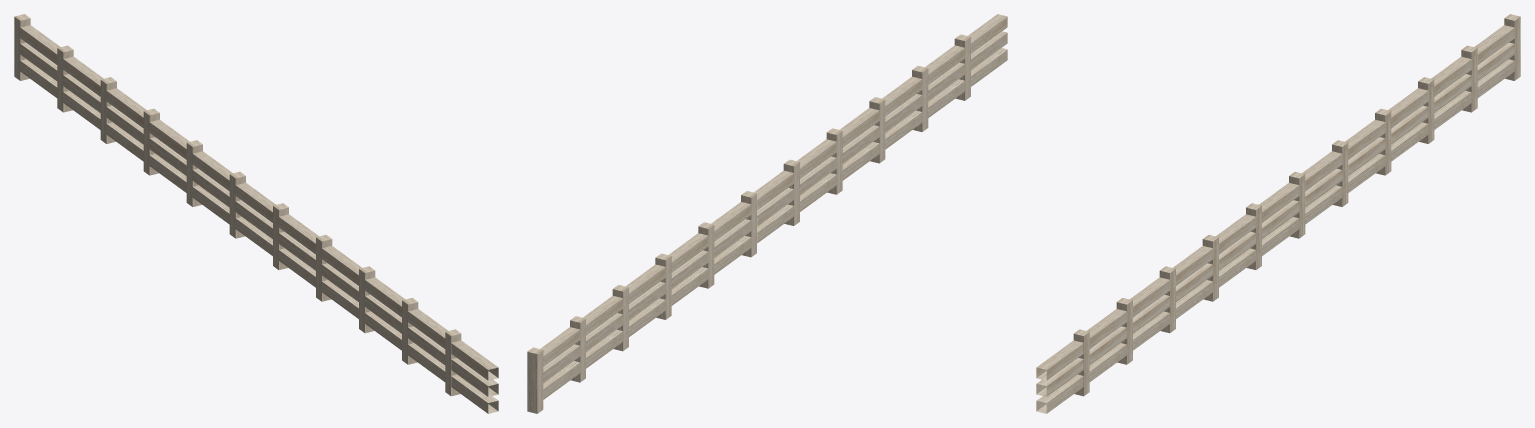
File: Fence.obj
3 renders of one model, left to right at view 1: azimuth 30°, elevation 25°; view 2: azimuth 150°, elevation 25°; view 3: azimuth 330°, elevation 25°, orthographic.
Parts seen in each view (by area): view 1: Cube.003_Cube.005; view 2: Cube.003_Cube.005; view 3: Cube.003_Cube.005.
Boxes of the visible parts, x1,y1,x2,y2 form: Cube.003_Cube.005: (14,14,498,413); Cube.003_Cube.005: (527,14,1007,413); Cube.003_Cube.005: (1036,14,1520,413).
Size of the model in its own units: 2 by 11.15 by 159.
